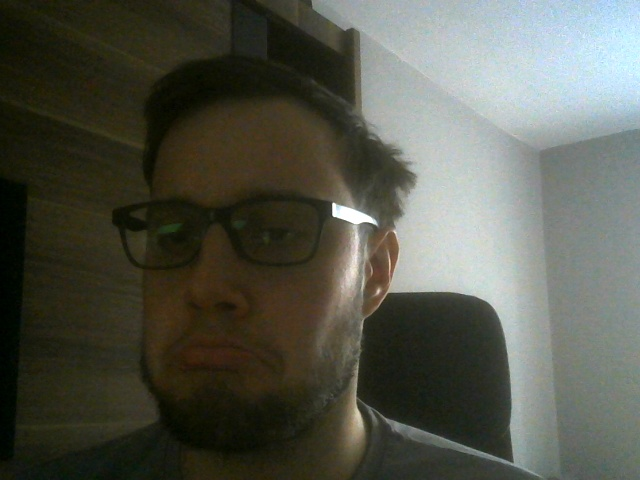neutral: (118, 56, 399, 439)
